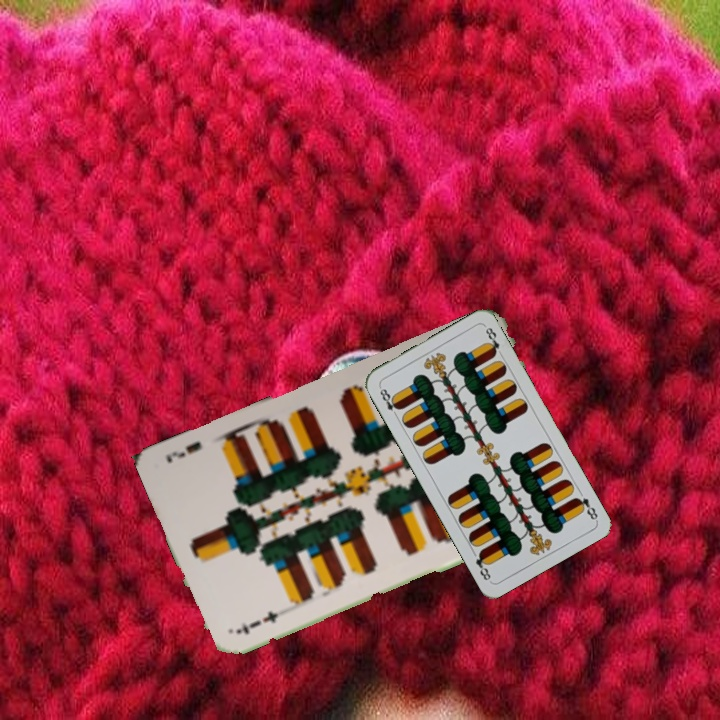E7: (232, 607, 281, 637)
E8: (375, 382, 403, 420), (571, 493, 600, 523)
